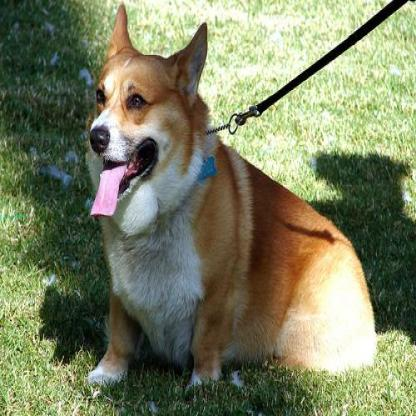Pembroke: (82, 0, 380, 391)
